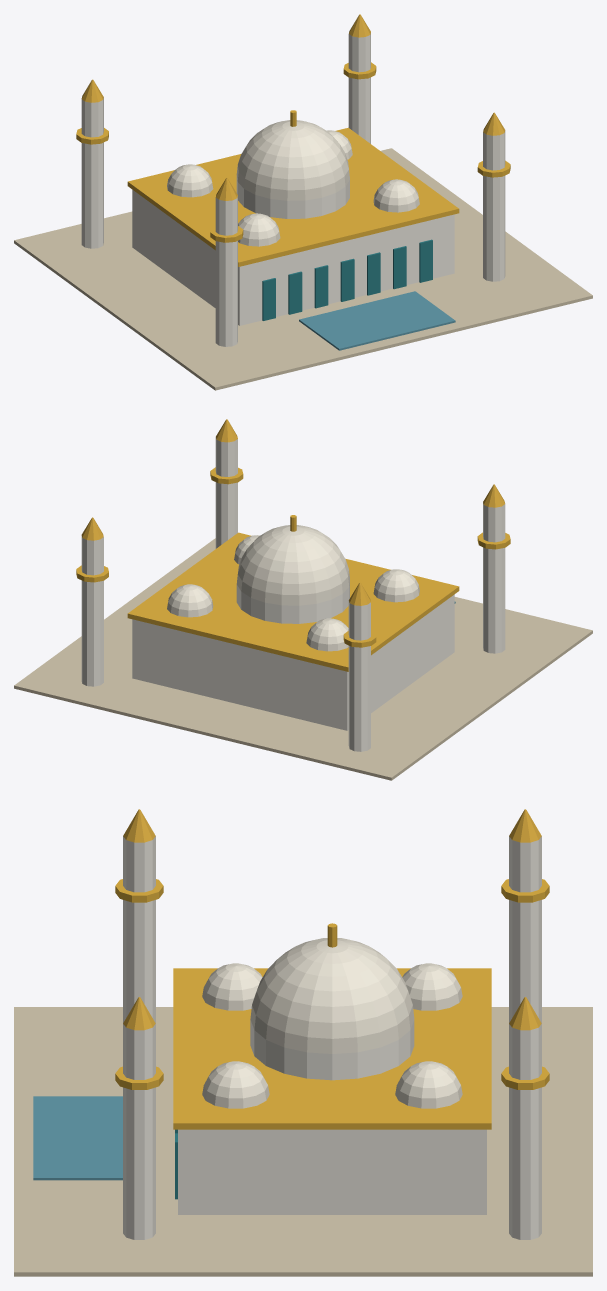
File: mosque.glb
3 views of the same model, one above another, from view 1: azimuth 30°, elevation 25°; view 2: azimuth 150°, elevation 25°; view 3: azimuth 270°, elevation 25° (orthographic). The views are drawn at different scales.
Visible parts, largest first — view 1: mosque_plaza, mosque_white, mosque_gold, mosque_dome, mosque_water, mosque_teal, mosque_dome_gold; view 2: mosque_white, mosque_plaza, mosque_gold, mosque_dome, mosque_dome_gold; view 3: mosque_plaza, mosque_white, mosque_gold, mosque_dome, mosque_water, mosque_dome_gold.
Part boxes in pixels (bbox=[...]): mosque_plaza: bbox=[14, 148, 592, 390]; mosque_white: bbox=[81, 33, 505, 346]; mosque_gold: bbox=[76, 62, 510, 266]; mosque_dome: bbox=[167, 120, 419, 246]; mosque_water: bbox=[299, 291, 455, 350]; mosque_teal: bbox=[262, 239, 432, 320]; mosque_dome_gold: bbox=[81, 14, 505, 200]; mosque_white: bbox=[81, 437, 505, 751]; mosque_plaza: bbox=[14, 538, 592, 780]; mosque_gold: bbox=[76, 467, 510, 671]; mosque_dome: bbox=[167, 525, 419, 651]; mosque_dome_gold: bbox=[81, 419, 505, 605]; mosque_plaza: bbox=[14, 1007, 592, 1276]; mosque_white: bbox=[123, 836, 541, 1239]; mosque_gold: bbox=[115, 879, 549, 1129]; mosque_dome: bbox=[202, 938, 462, 1108]; mosque_water: bbox=[33, 1096, 122, 1180]; mosque_dome_gold: bbox=[123, 809, 541, 1030].
Bounding box in the file's own units: 130 × 55 × 120.
